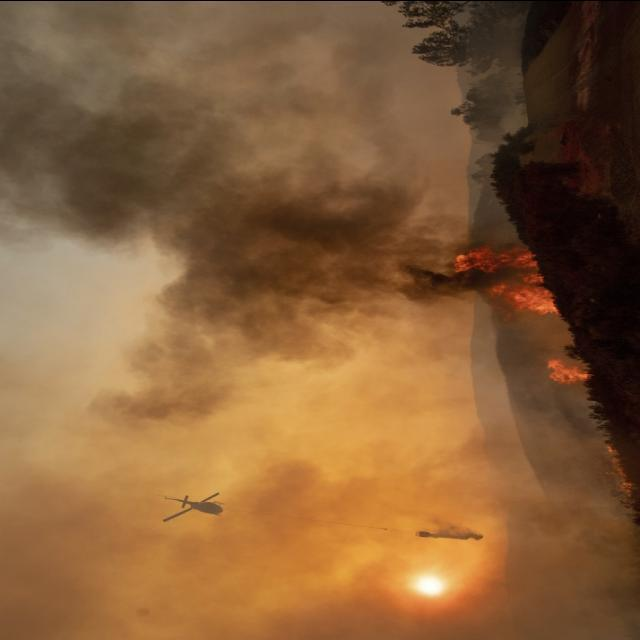Fire: (402, 239, 606, 390)
